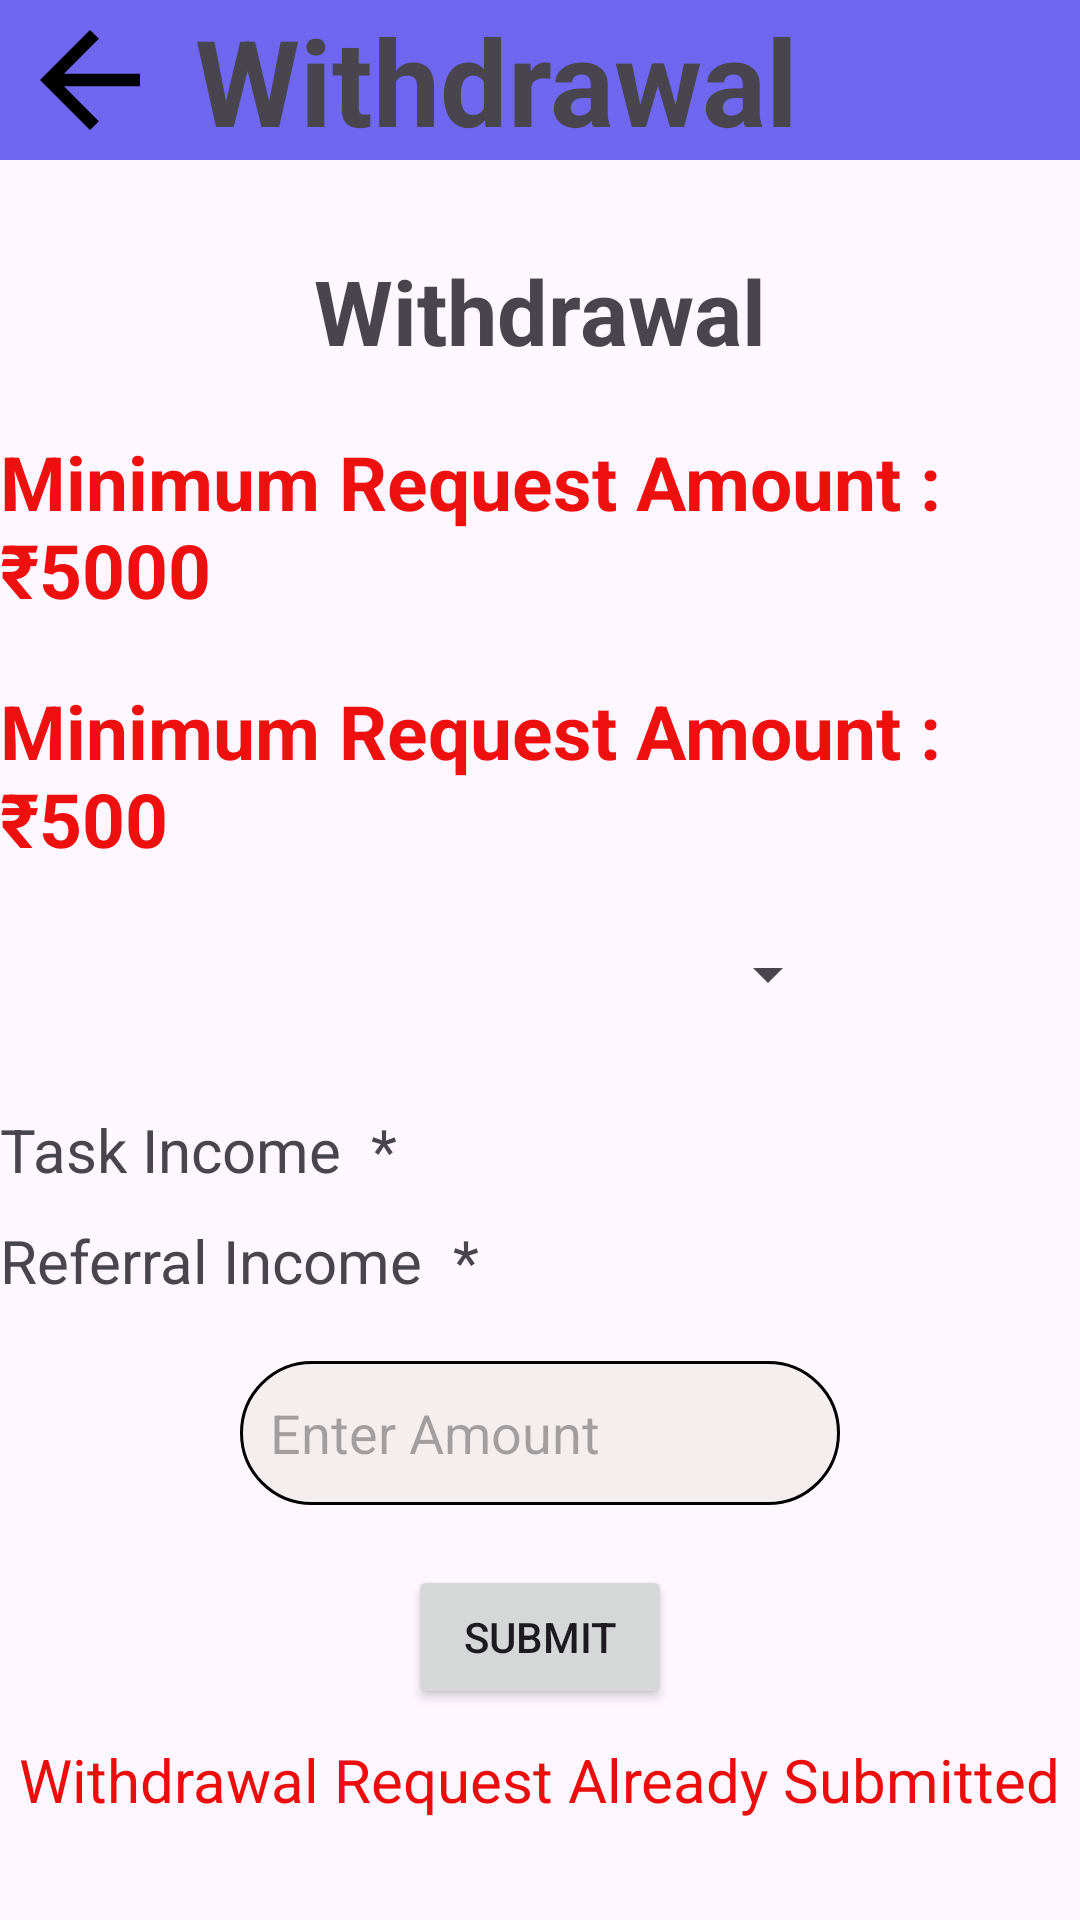

Icon bounding boxes for this 1080px×1920px phone screenshot, format (x1, y1, x2, y2):
back: (40, 30, 140, 130)
